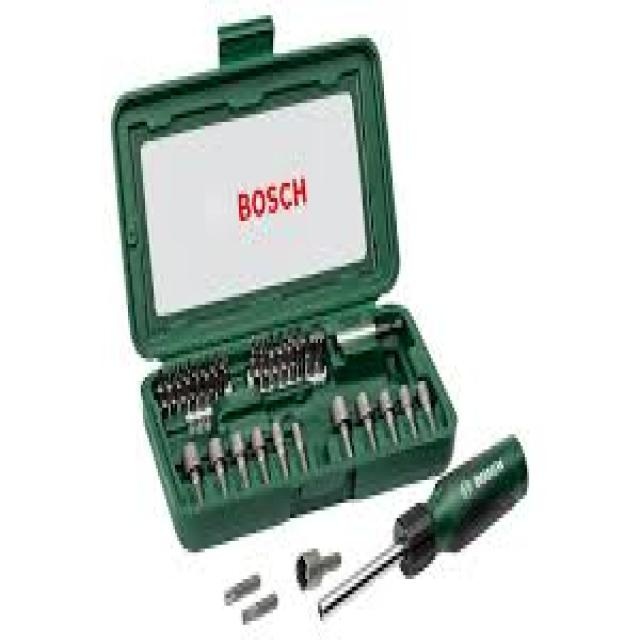screw driver: (292, 432, 560, 630)
